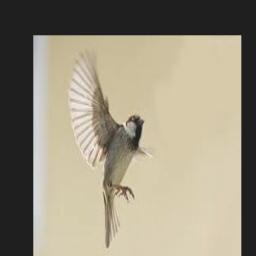Sparrow: (69, 46, 152, 247)
